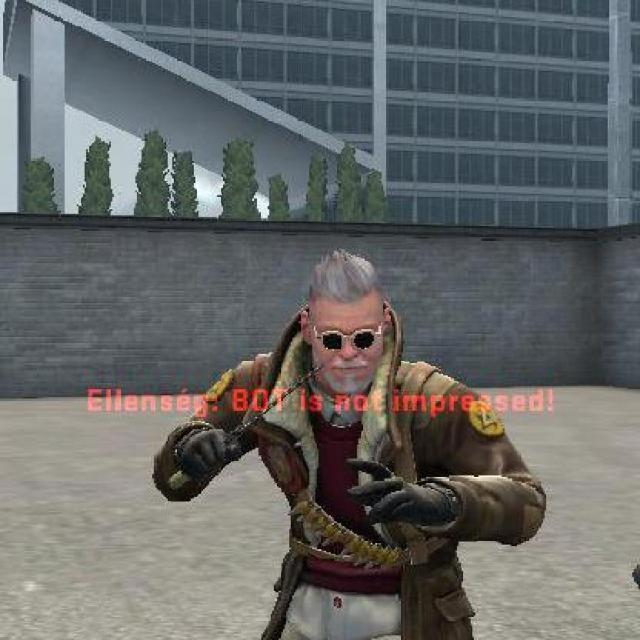Dead: (292, 254, 394, 403)
T-Body: (157, 244, 551, 638)
